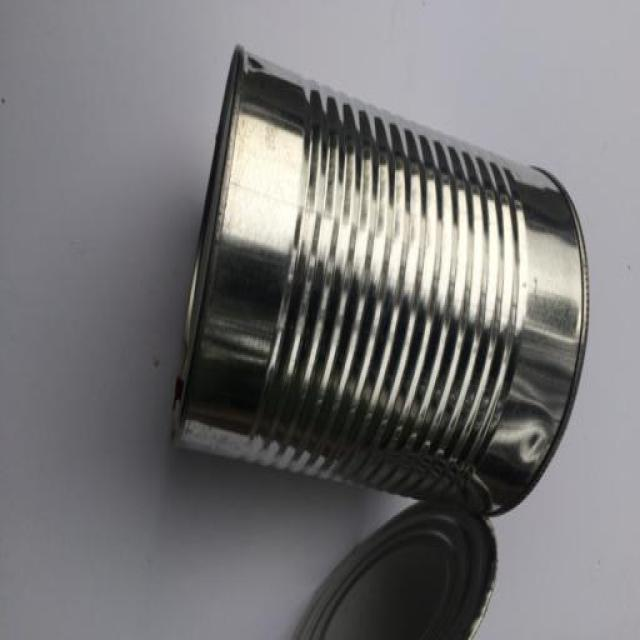Metal: (170, 45, 590, 640)
